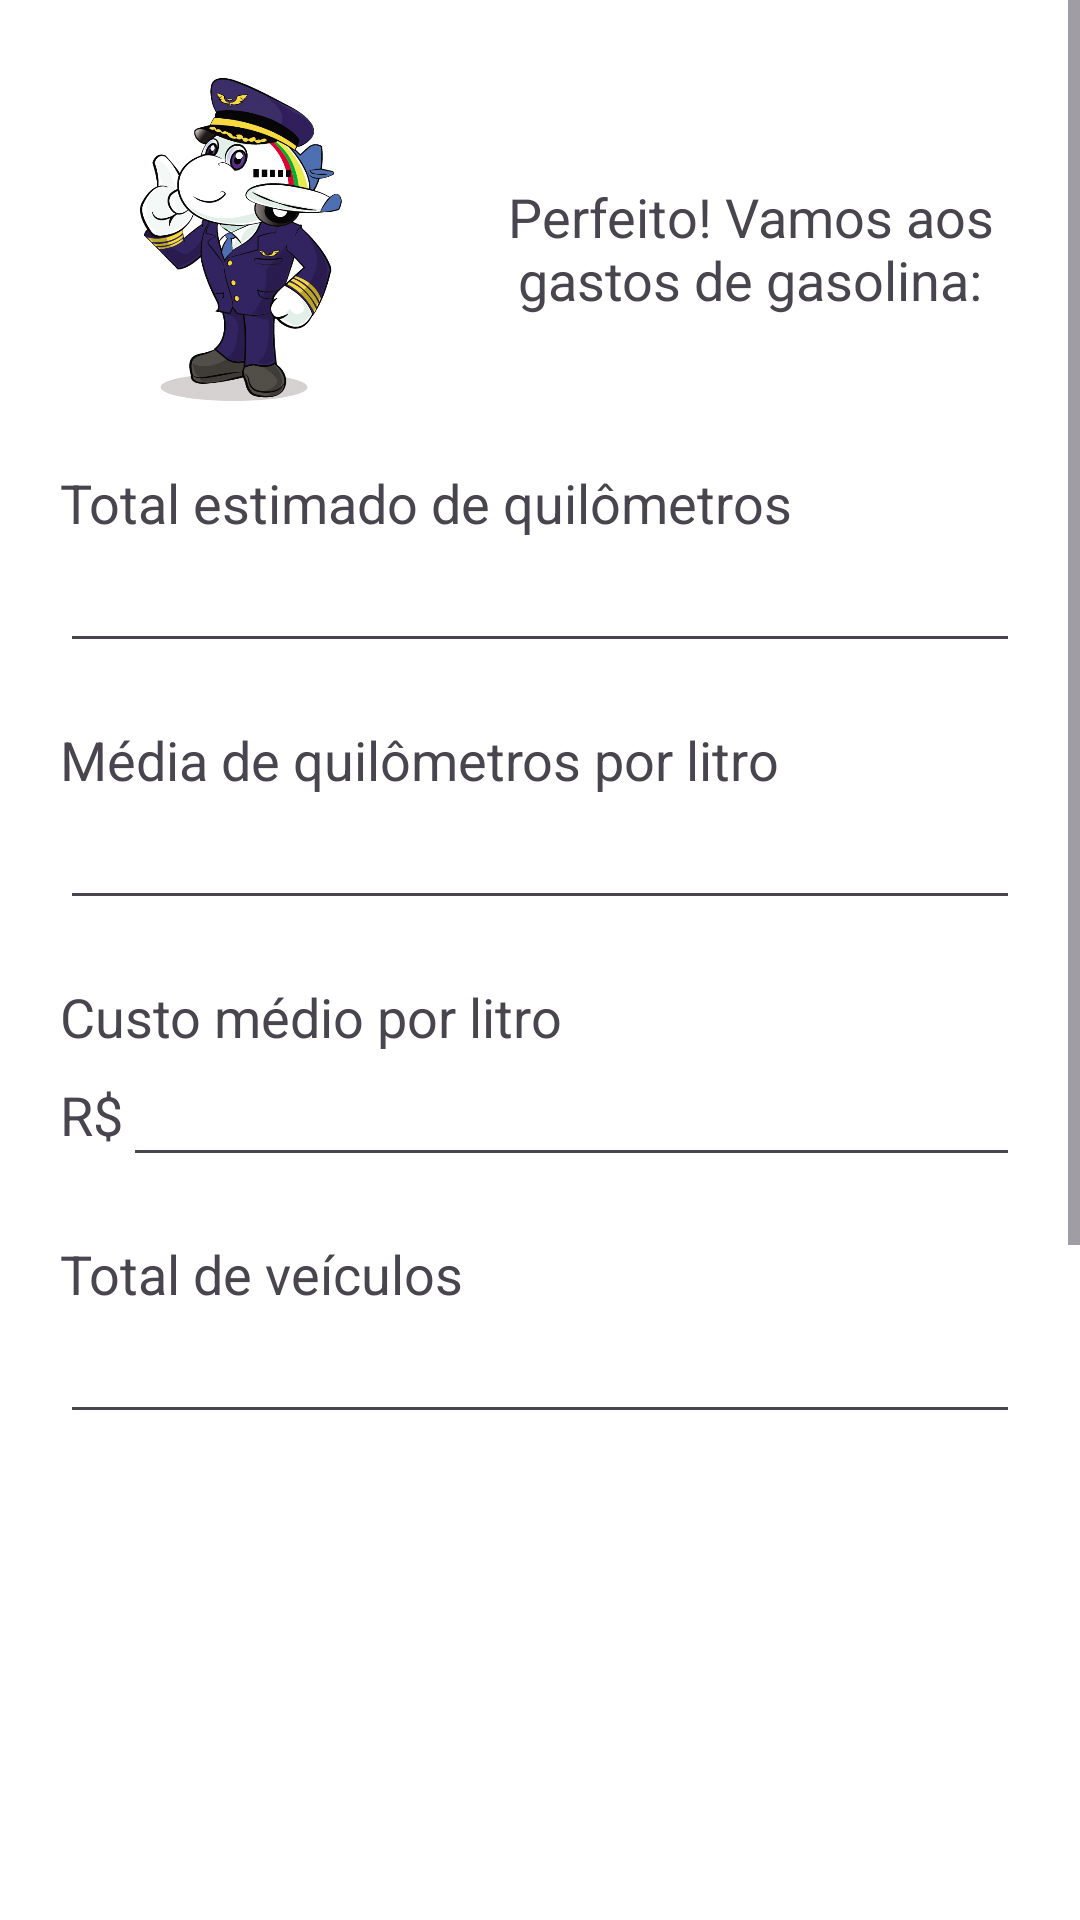

Locate icon controls on the screen. Image size 1080*1920, boxes as (x1, y1, x2, y2).
aviao: (140, 78, 342, 401)
